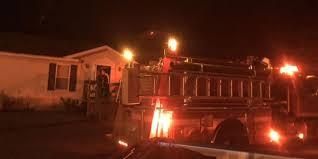fire: (149, 100, 174, 137), (278, 61, 298, 76), (266, 128, 281, 142)
